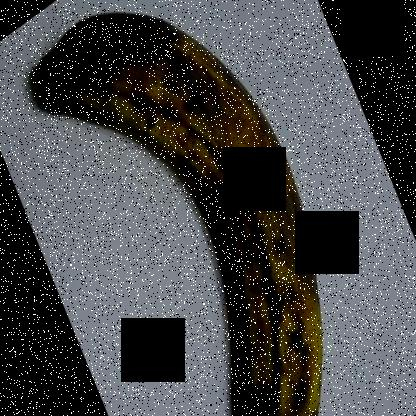overripe: (20, 1, 356, 415)
